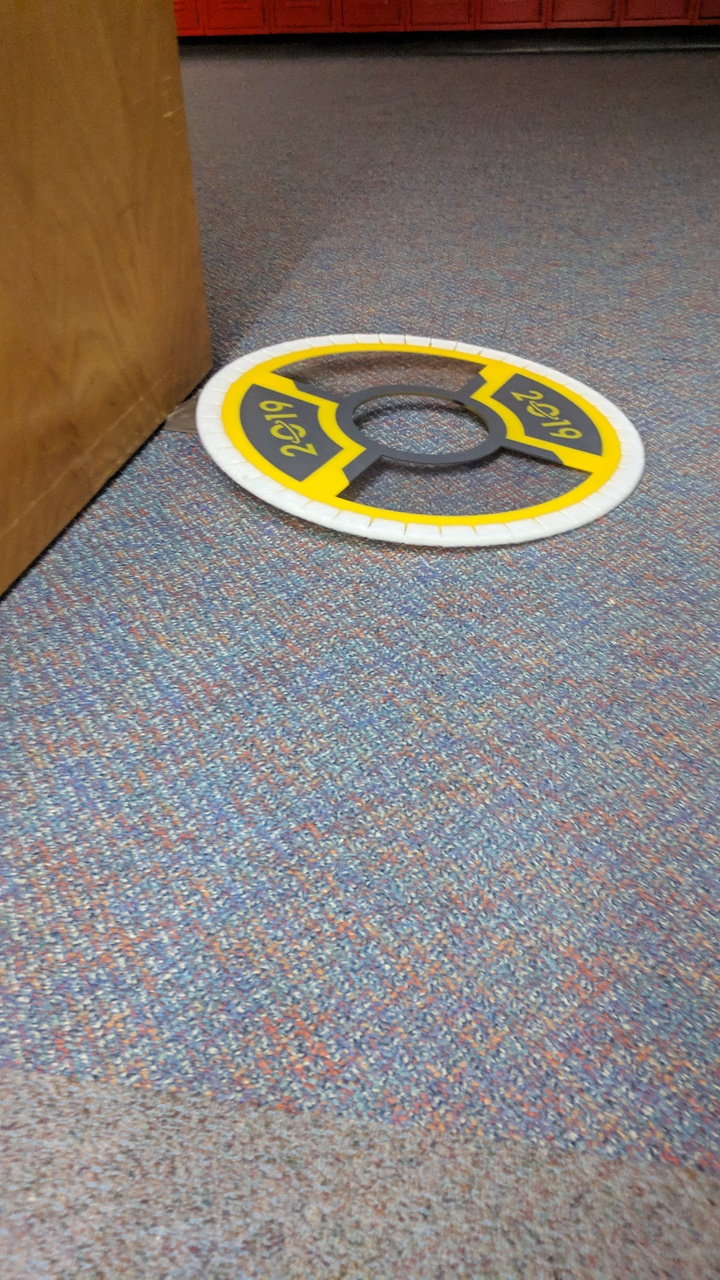hatch_panel: (194, 328, 659, 564)
